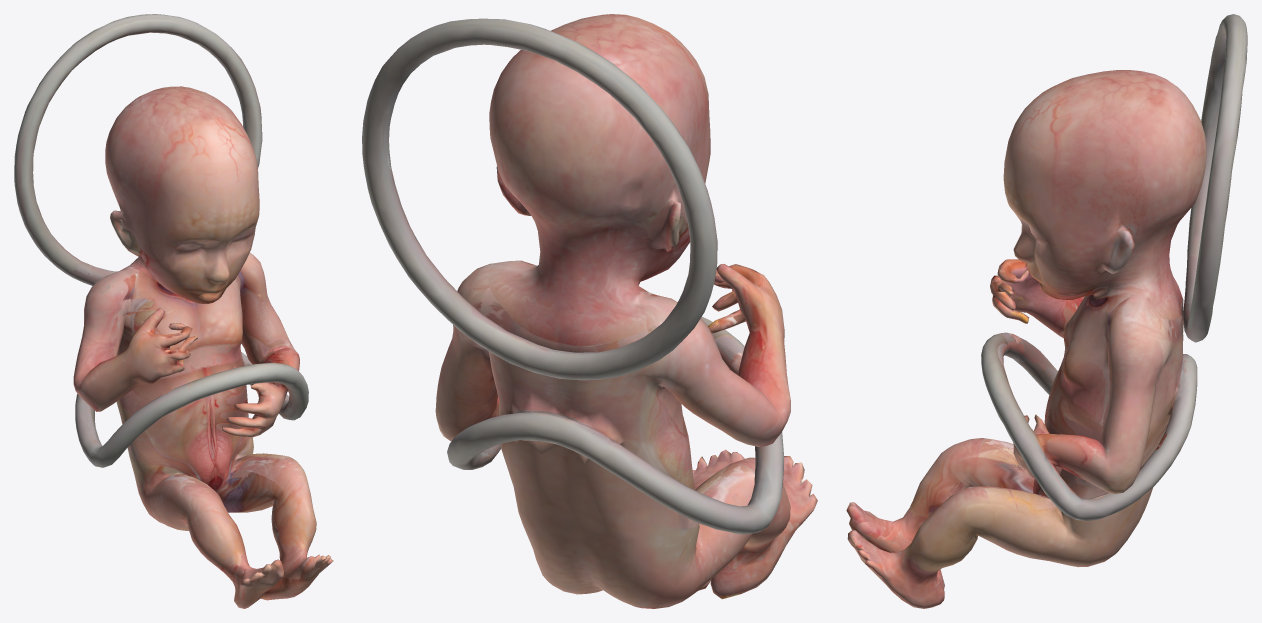
File: bene_3d.glb
3 views of the same model, side by side, from view 1: azimuth 30°, elevation 25°; view 2: azimuth 150°, elevation 25°; view 3: azimuth 270°, elevation 25° (orthographic). The views are drawn at different scales.
Size of the model in its own units: 1.04 by 1.99 by 1.27.
1 material, 1 textured.
